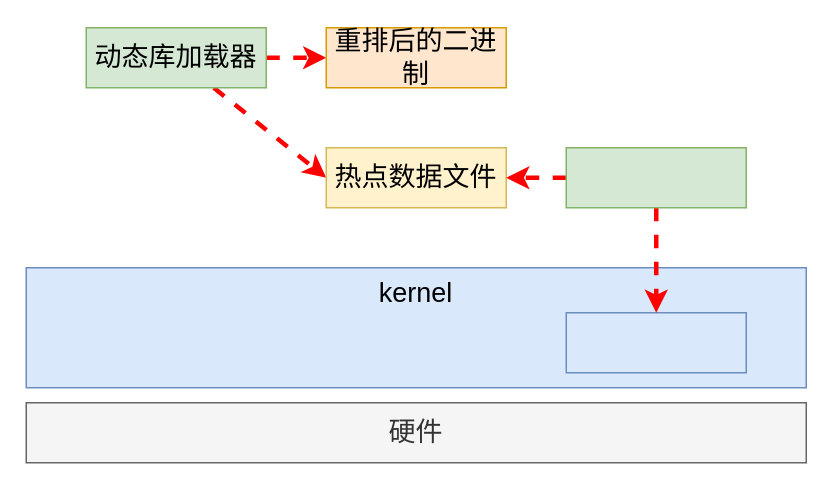
Some shapes in this 833 by 489 pixel diagram are drawn without their labels. The shapes that lost their labels are listed below. From the top down, each one's centre as x and y in pixels, then its label:
At [655,177]: "native-turbo".
At [655,342]: "热点统计".
